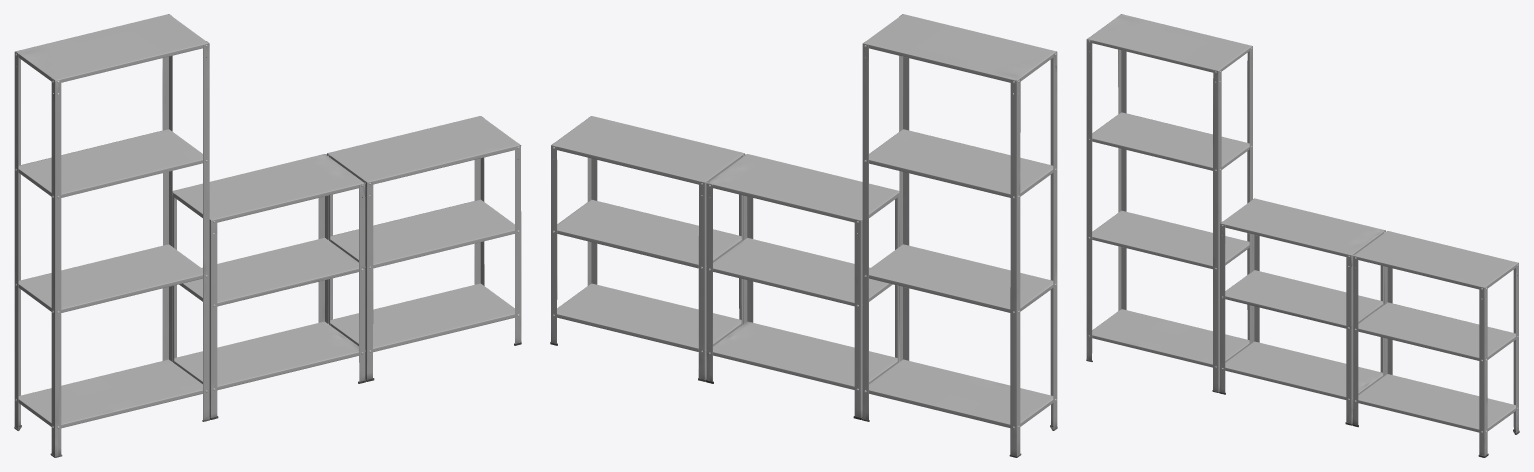
The model's file is hyllis_rega_zew_wew_39318031.glb.
3 renders of one model, left to right at view 1: azimuth 30°, elevation 25°; view 2: azimuth 150°, elevation 25°; view 3: azimuth 330°, elevation 25°, orthographic. The views are drawn at different scales.
Parts seen in each view (by area): view 1: hyllis_rega_zew_wew_39318031; view 2: hyllis_rega_zew_wew_39318031; view 3: hyllis_rega_zew_wew_39318031.
Boxes of the visible parts, left/top/right/bottom form: hyllis_rega_zew_wew_39318031: left=14, top=14, right=521, bottom=457; hyllis_rega_zew_wew_39318031: left=550, top=14, right=1057, bottom=457; hyllis_rega_zew_wew_39318031: left=1086, top=14, right=1519, bottom=457.
Size of the model in its own units: 1.82 by 1.4 by 0.2782.
Materials: 1 (1 with a texture image).
